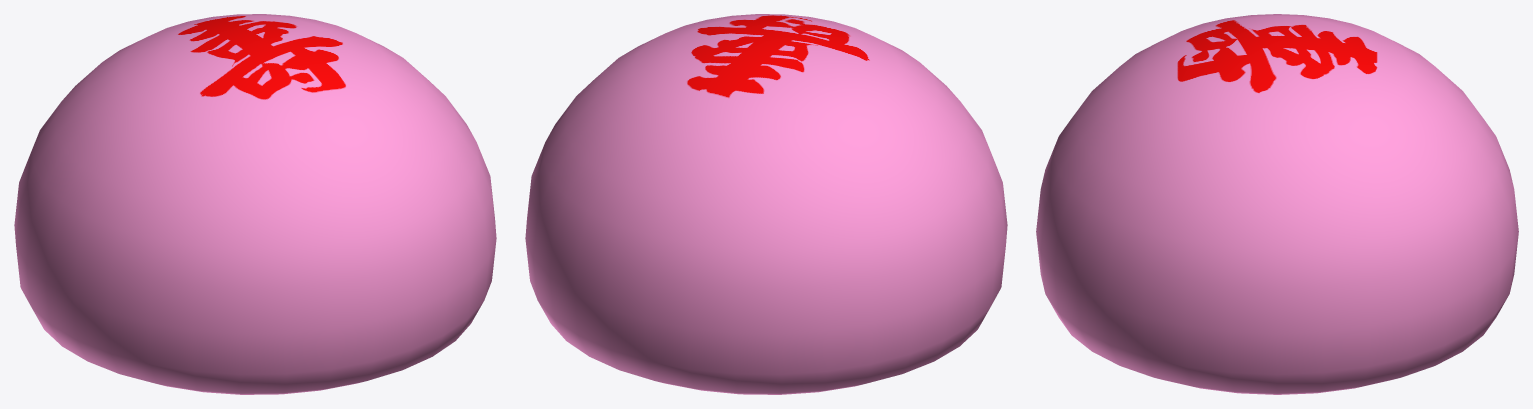
File: birthday.fbx
3 views of the same model, side by side, from view 1: azimuth 30°, elevation 25°; view 2: azimuth 150°, elevation 25°; view 3: azimuth 270°, elevation 25° (orthographic).
Visible parts, largest first — view 1: Sphere001; view 2: Sphere001; view 3: Sphere001.
Boxes of the visible parts, x1,y1,x2,y2 form: Sphere001: (14,14,496,394); Sphere001: (525,14,1007,394); Sphere001: (1036,14,1518,394).
Bounding box in the file's own units: 30 × 18.64 × 30.
2 materials, 2 textured.
